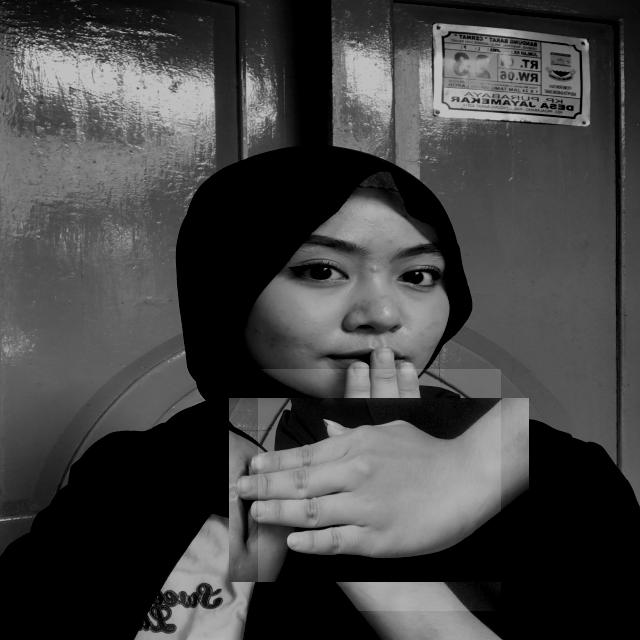ganteng: (258, 369, 501, 611)
